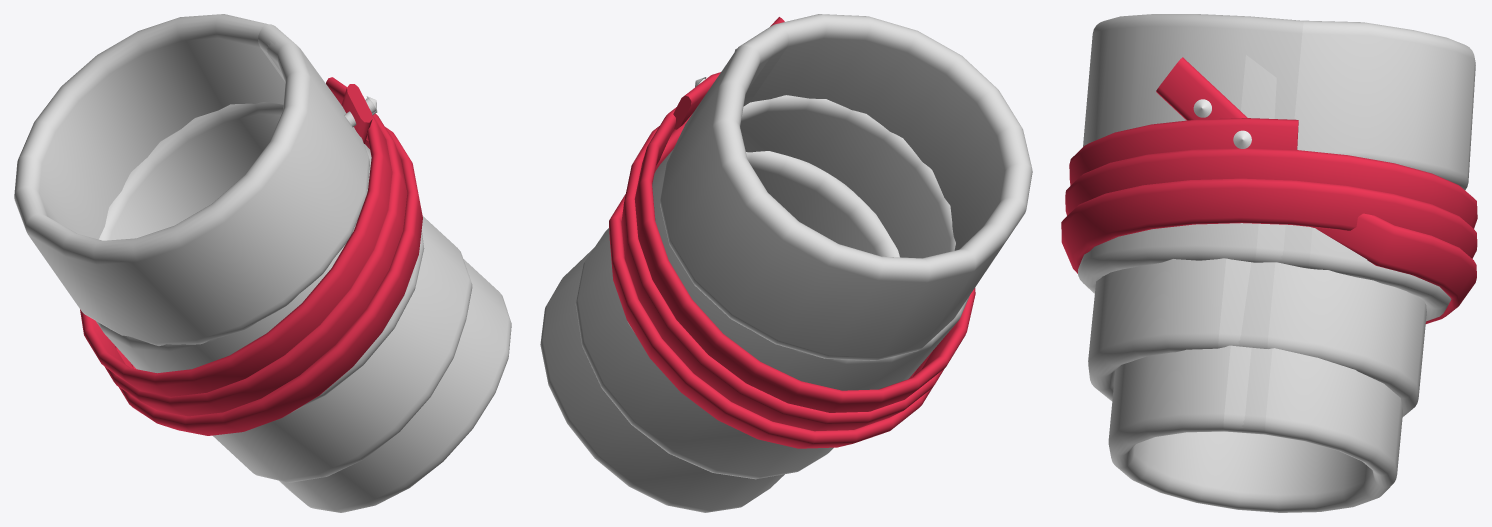
The model's file is arm_pos_tourniquet.fbx.
The picture shows the model from 3 angles, left to right: view 1: azimuth 30°, elevation 25°; view 2: azimuth 150°, elevation 25°; view 3: azimuth 270°, elevation 25°; orthographic projection. The views are drawn at different scales.
Visible parts, largest first — view 1: рука повязка жгут; view 2: рука повязка жгут; view 3: рука повязка жгут.
Part boxes in pixels (x1,y1,x2,y2): рука повязка жгут: [14, 14, 511, 512]; рука повязка жгут: [540, 14, 1032, 512]; рука повязка жгут: [1061, 14, 1477, 512].
Size of the model in its own units: 16.63 by 17.16 by 13.46.
